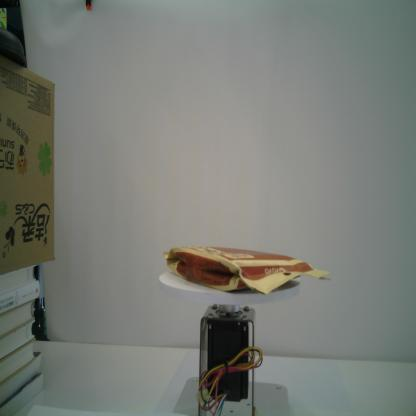Dried Food: (162, 244, 332, 298)
